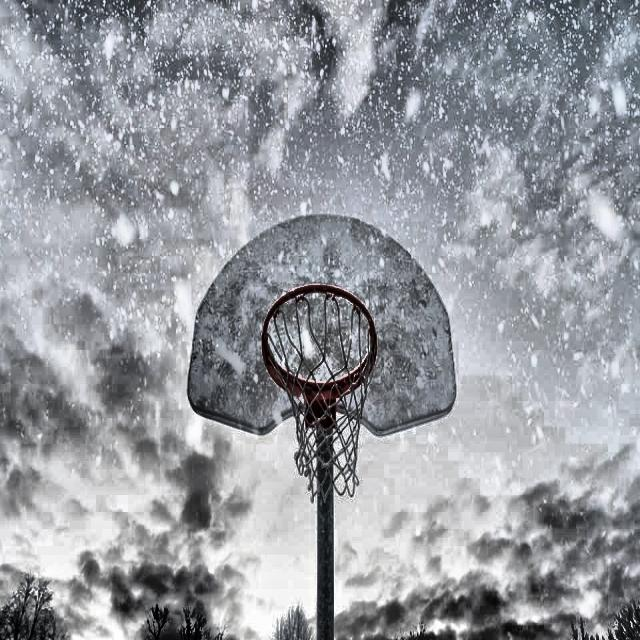rim: (262, 284, 378, 500)
